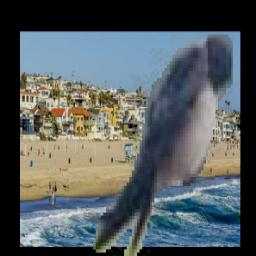Swallow: (93, 35, 233, 256)
